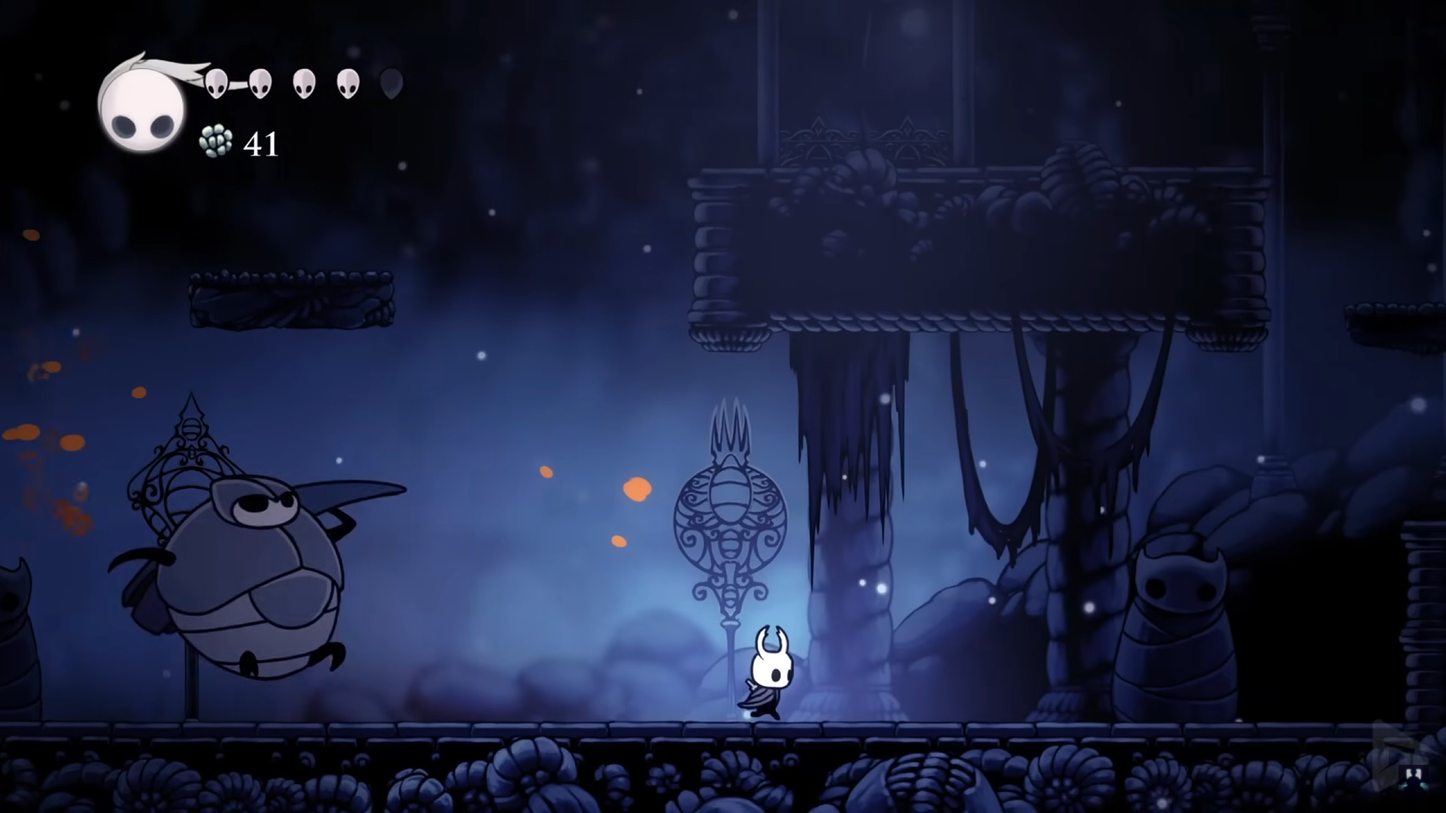HK: (736, 624, 801, 724)
